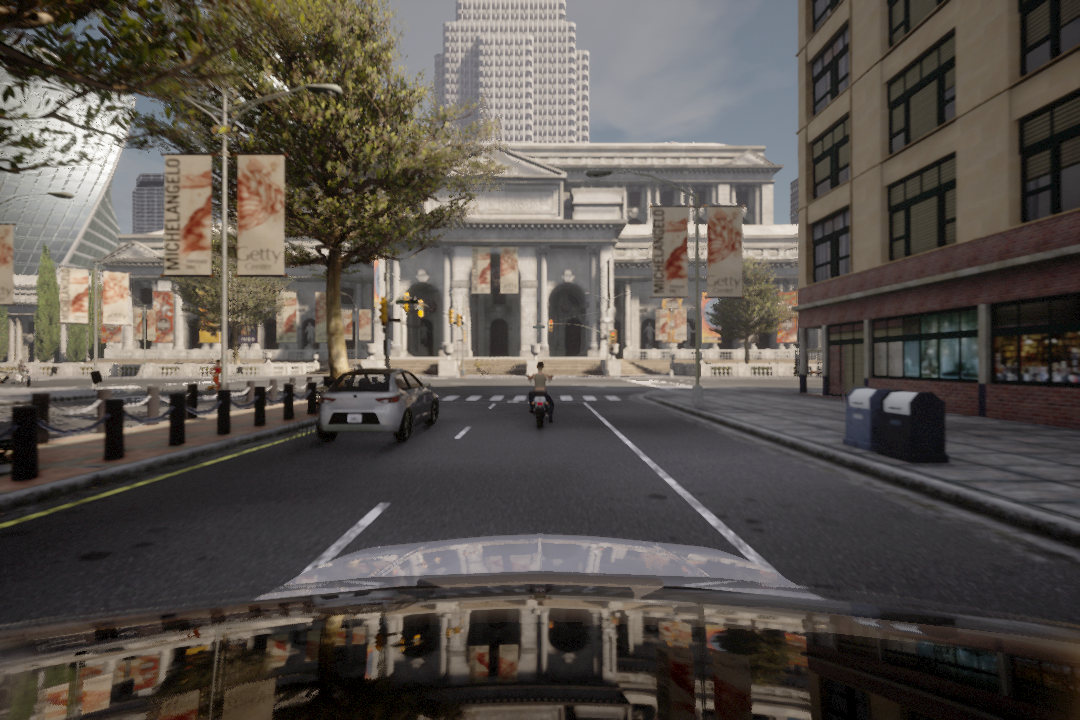walkside: (431, 390, 644, 406)
